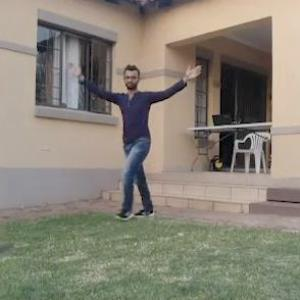takeoff: (67, 61, 207, 220)
